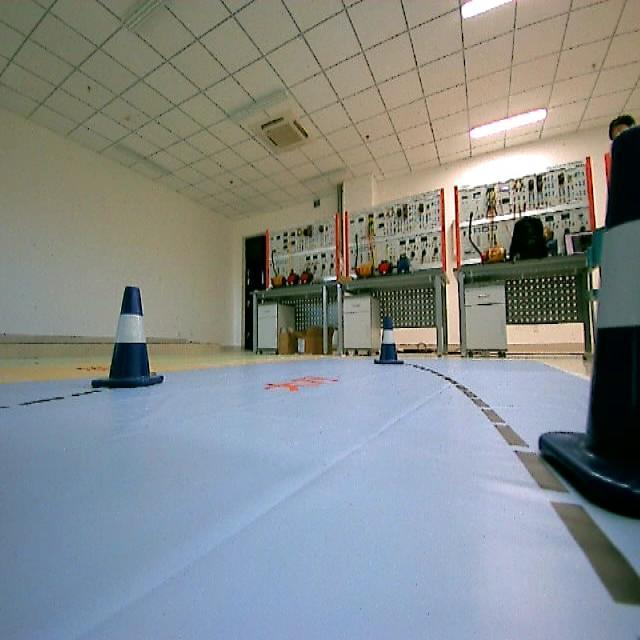obstacle: (86, 285, 166, 398), (369, 314, 409, 368)
